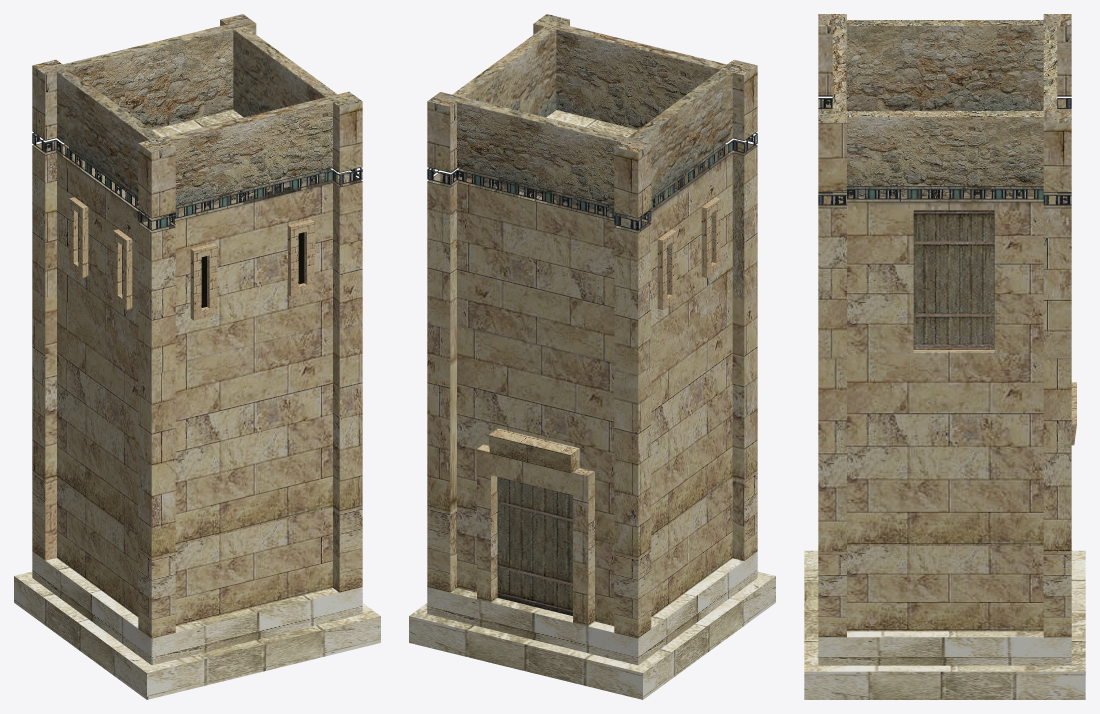
File: kart_wall_tower_l.dae
3 renders of one model, left to right at view 1: azimuth 30°, elevation 25°; view 2: azimuth 150°, elevation 25°; view 3: azimuth 270°, elevation 25°, orthographic. The views are drawn at different scales.
Visible parts, largest first — view 1: objBox07; view 2: objBox07; view 3: objBox07.
Boxes of the visible parts, x1=… form: objBox07: x1=14, y1=14, x2=380, y2=699; objBox07: x1=409, y1=14, x2=775, y2=699; objBox07: x1=804, y1=14, x2=1085, y2=699.
Bounding box in the file's own units: 7.89 × 7.76 × 17.39.
